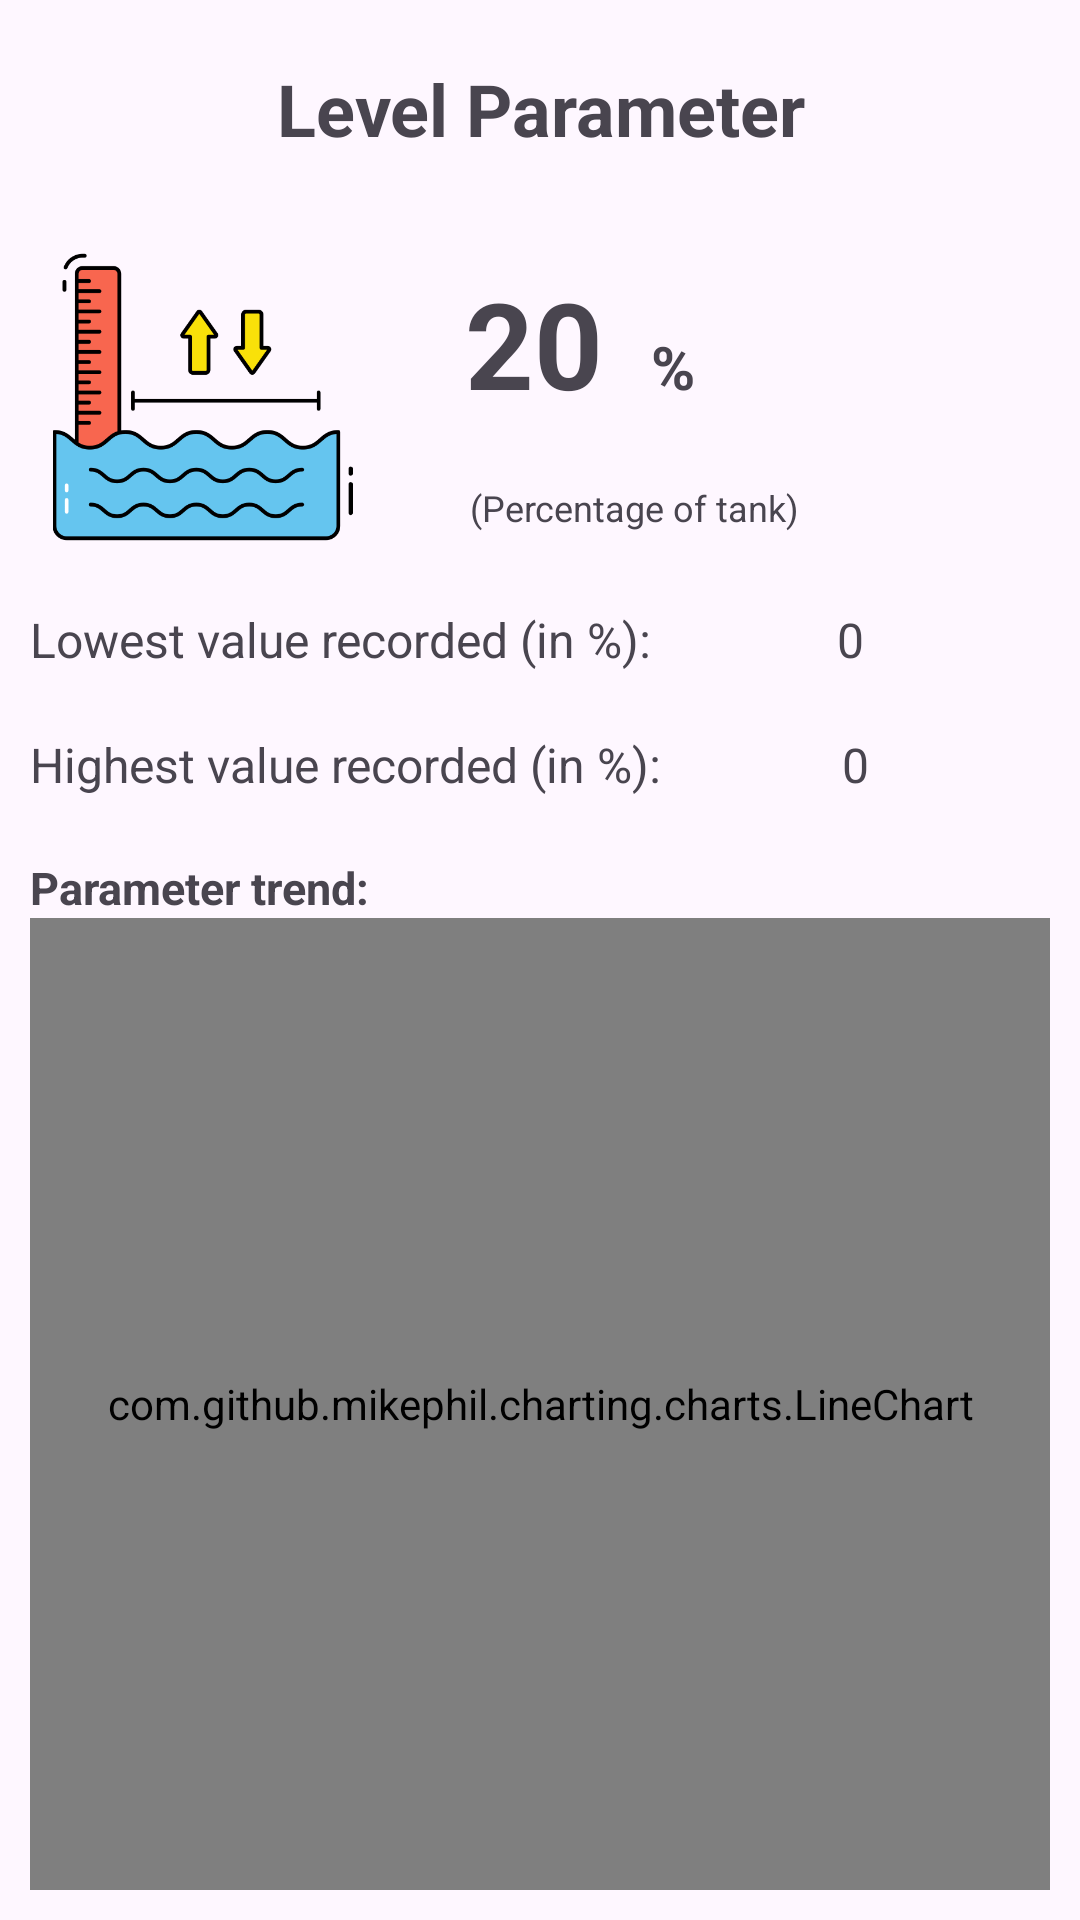

Named icons in this screenshot (1080*1920) and their centers, point (x, y):
levelimg: point (203, 397)
